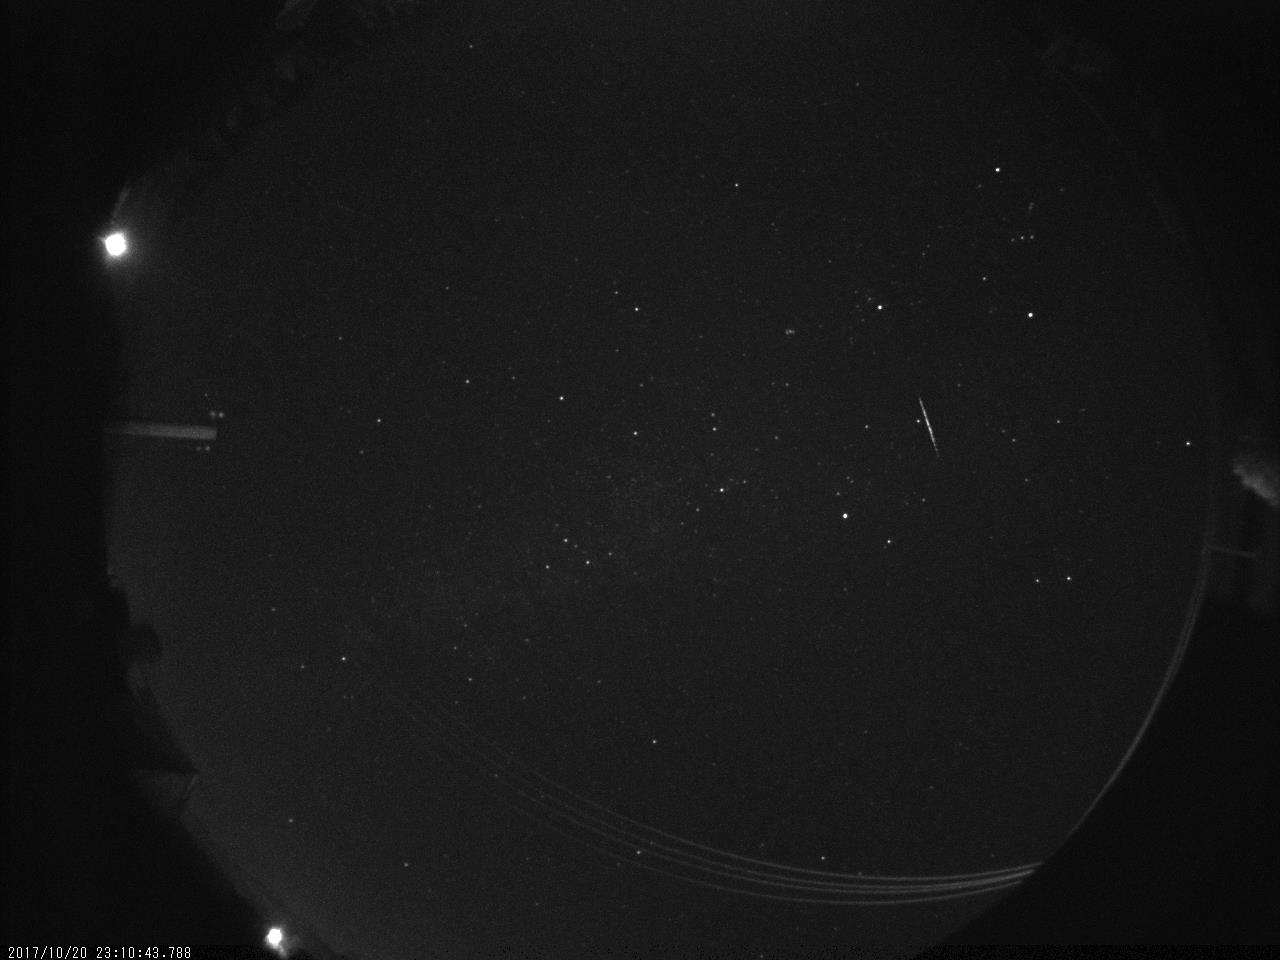meteor: (911, 390, 952, 463)
